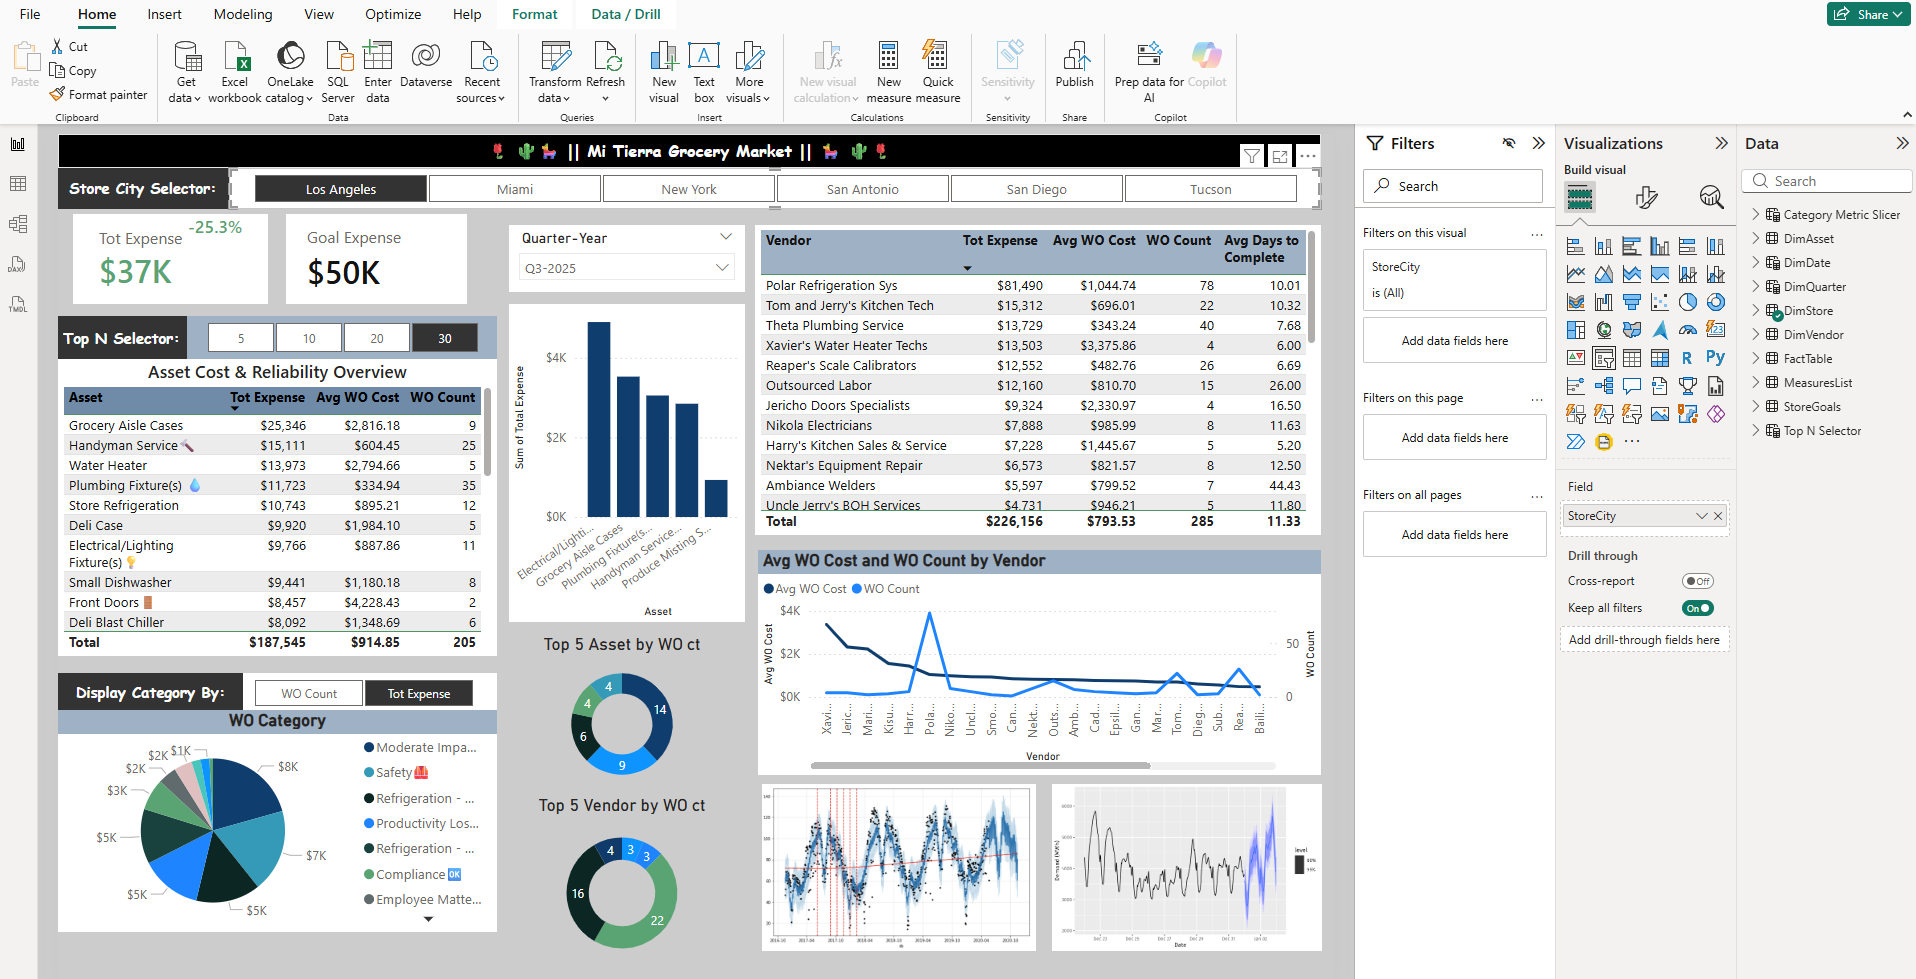

Layout of this report page (visuals, bound fields, positions):
{"tool":"powerbi","page":{"name":"Overview","canvas":[1276,850],"ordinal":0},"visuals":[{"type":"clusteredColumnChart","fields":{"Category":["DimAsset.Asset"],"Y":["Sum(FactTable.Total Expense)"]},"box":[451,170,236,318],"z":0},{"type":"slicer","title":"Top N","fields":{"Values":["Top N Selector.TopN"]},"box":[129,182,310,43],"z":1000},{"type":"tableEx","fields":{"Values":["DimVendor.Vendor","FactTable.Tot Expense","FactTable.Avg WO Cost","FactTable.WO Count","FactTable.Avg Days to Complete"]},"box":[697,91,566,310],"z":2000},{"type":"lineChart","fields":{"Category":["DimVendor.Vendor"],"Y":["FactTable.Avg WO Cost"],"Y2":["FactTable.WO Count"]},"box":[700,416,563,225],"z":3000},{"type":"textbox","box":[0,0,1263,34],"z":4000},{"type":"slicer","fields":{"Values":["DimDate.Quarter-Year"]},"box":[451,91,236,67],"z":5000},{"type":"donutChart","title":"Top 5 Asset by WO ct","fields":{"Category":["DimAsset.Asset"],"Y":["FactTable.WO Count"]},"box":[431,500,266,161],"z":6000},{"type":"tableEx","title":"Asset Cost & Reliability Overview","fields":{"Values":["DimAsset.Asset","FactTable.Tot Expense","FactTable.Avg WO Cost","FactTable.WO Count"]},"box":[0,225,439,297],"z":7000},{"type":"pieChart","title":"WO Category","fields":{"Y":["FactTable.Tot Expense"],"Category":["FactTable.WO Category"]},"box":[0,576,439,222],"z":8000},{"type":"donutChart","title":"Top 5 Vendor by WO ct","fields":{"Y":["FactTable.WO Count"],"Series":["DimVendor.Vendor"]},"box":[441,661,246,177],"z":9000},{"type":"image","box":[687,650,308,167],"z":10000},{"type":"image","box":[950,650,358,167],"z":11000},{"type":"cardVisual","fields":{"Data":["FactTable.Tot Expense"]},"box":[15,80,195,90],"z":12000},{"type":"cardVisual","fields":{"Data":["MeasuresList.Goal Expense"]},"box":[228,80,181,90],"z":13000},{"type":"cardVisual","fields":{"Data":["MeasuresList.Pct Difference (Formatted)"]},"box":[118,66,106,50],"z":14000},{"type":"textbox","box":[0,34,171,41],"z":15000},{"type":"slicer","fields":{"Values":["DimStore.StoreCity"]},"box":[171,34,1092,41],"z":16000},{"type":"textbox","box":[0,182,129,43],"z":17000},{"type":"slicer","fields":{"Values":["Category Metric Slicer.Category Metric Slicer"]},"box":[171,539,268,37],"z":18000},{"type":"textbox","box":[0,539,185,37],"z":19000}]}

Visuals, with their boxes on the page's 1276x850 design canvas (x1, y1, x2, y2). These are canvas units, not pixel positions in the 1916x979 screenshot, which may show the page scaled, cropped or inside an application window:
clusteredColumnChart - DimAsset.Asset x Sum(FactTable.Total Expense): x1=451, y1=170, x2=687, y2=488
"Top N" slicer: x1=129, y1=182, x2=439, y2=225
tableEx - DimVendor.Vendor x FactTable.Tot Expense: x1=697, y1=91, x2=1263, y2=401
lineChart - DimVendor.Vendor x FactTable.Avg WO Cost: x1=700, y1=416, x2=1263, y2=641
textbox: x1=0, y1=0, x2=1263, y2=34
slicer - DimDate.Quarter-Year: x1=451, y1=91, x2=687, y2=158
"Top 5 Asset by WO ct" donutChart: x1=431, y1=500, x2=697, y2=661
"Asset Cost & Reliability Overview" tableEx: x1=0, y1=225, x2=439, y2=522
"WO Category" pieChart: x1=0, y1=576, x2=439, y2=798
"Top 5 Vendor by WO ct" donutChart: x1=441, y1=661, x2=687, y2=838
image: x1=687, y1=650, x2=995, y2=817
image: x1=950, y1=650, x2=1308, y2=817
cardVisual - FactTable.Tot Expense: x1=15, y1=80, x2=210, y2=170
cardVisual - MeasuresList.Goal Expense: x1=228, y1=80, x2=409, y2=170
cardVisual - MeasuresList.Pct Difference (Formatted): x1=118, y1=66, x2=224, y2=116
textbox: x1=0, y1=34, x2=171, y2=75
slicer - DimStore.StoreCity: x1=171, y1=34, x2=1263, y2=75
textbox: x1=0, y1=182, x2=129, y2=225
slicer - Category Metric Slicer.Category Metric Slicer: x1=171, y1=539, x2=439, y2=576
textbox: x1=0, y1=539, x2=185, y2=576
